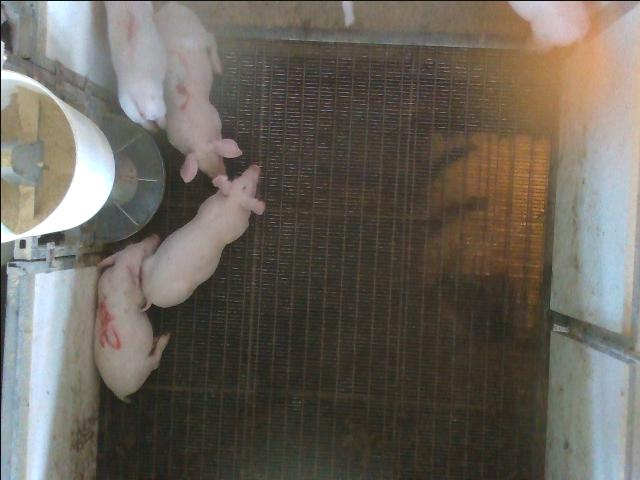pig-1: (104, 1, 166, 130)
pig-3: (154, 2, 241, 181)
pig-5: (94, 234, 169, 400)
